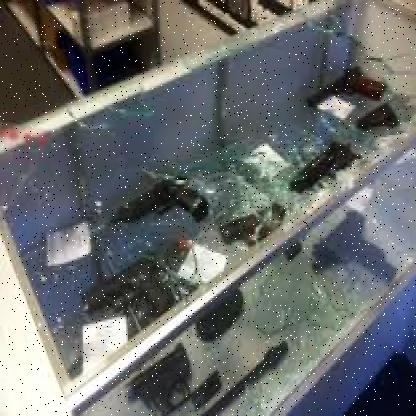pistol: (285, 124, 378, 203), (74, 249, 175, 320), (112, 157, 211, 228), (219, 187, 301, 268), (302, 43, 387, 116)
